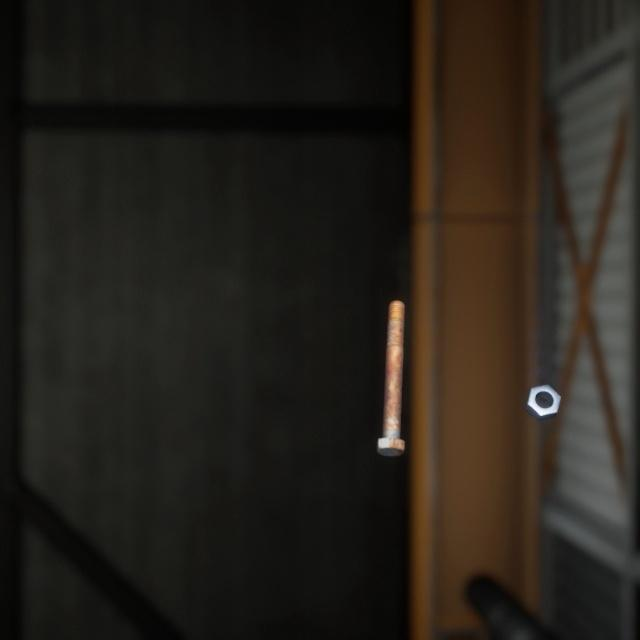bolt: (372, 278, 409, 442)
nut: (520, 360, 565, 405)
